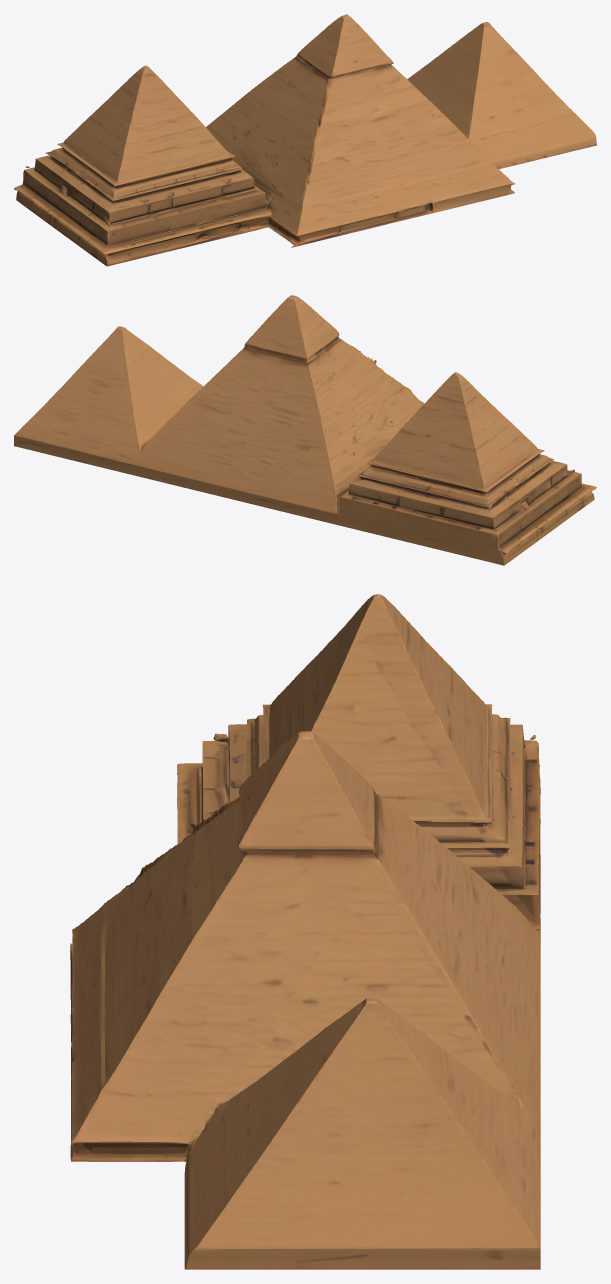
File: the_great_pyramid_of_giza_egypt.glb
3 renders of one model, top to bottom at view 1: azimuth 30°, elevation 25°; view 2: azimuth 150°, elevation 25°; view 3: azimuth 270°, elevation 25°, orthographic. The views are drawn at different scales.
Visible parts, largest first — view 1: Object_2; view 2: Object_2; view 3: Object_2.
Boxes of the visible parts, x1=… form: Object_2: x1=14, y1=14, x2=596, y2=266; Object_2: x1=14, y1=295, x2=596, y2=565; Object_2: x1=70, y1=594, x2=540, y2=1269.
Bounding box in the file's own units: 1.9 × 0.5921 × 0.786.
Materials: 1 (1 with a texture image).
